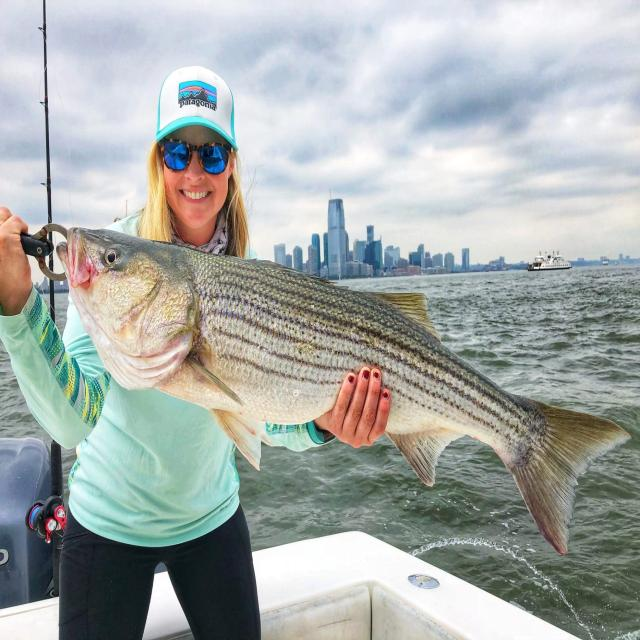Bass - Striped: (56, 228, 629, 554)
